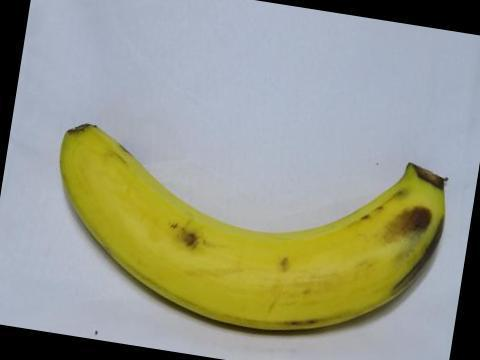freshripe: (46, 99, 458, 348)
